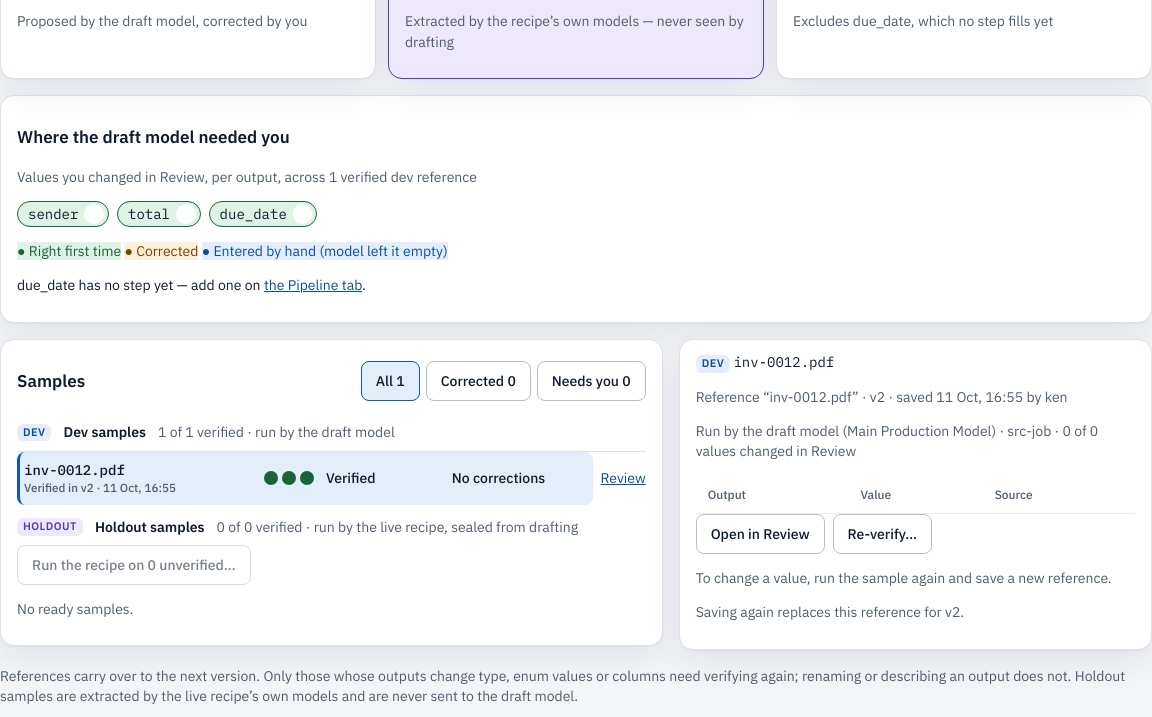
ReferencesTab › re-verifies one verified dev sample with the drafting model
(page scrolled)
Click the button "Re-verify…": point(882, 534) [833,514,932,554]
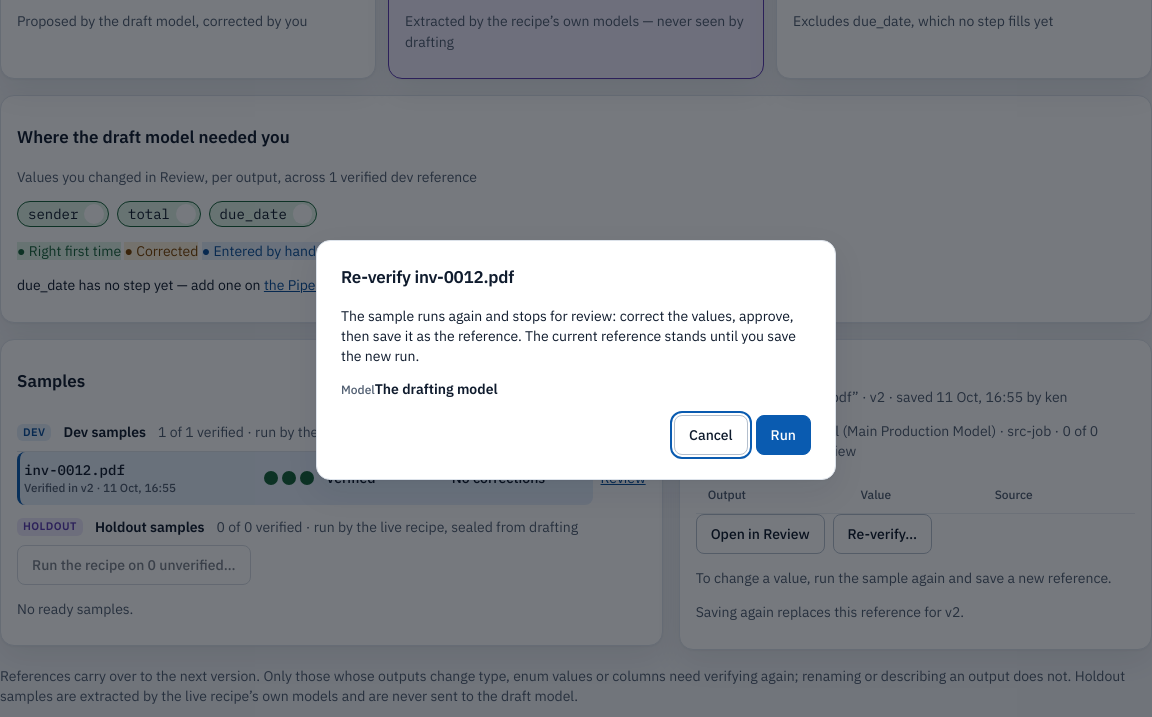
Result: the dialog "Re-verify inv-0012.pdf" shows "The drafting model" at [375,380,498,398]
Result: the dialog "Re-verify inv-0012.pdf" shows "The current reference stands until you save the new run." at [341,307,796,365]
Click the button "Run": point(783, 435) [756,415,811,455]
(page scrolled)
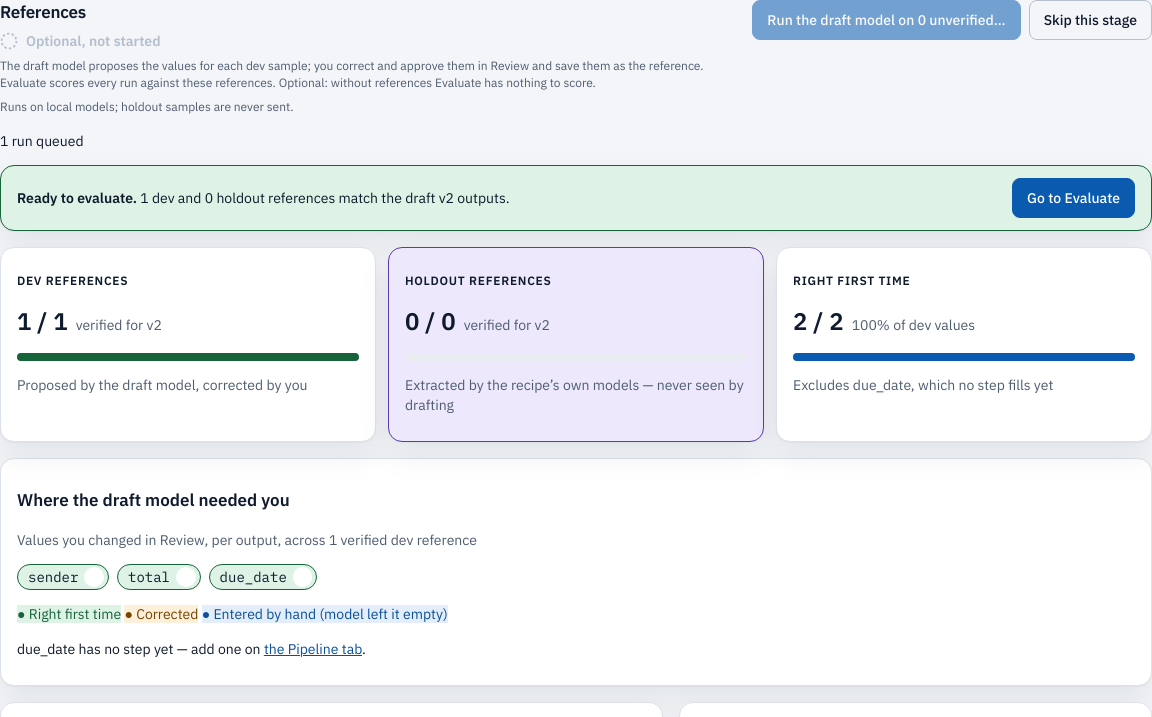
Result: the message reads "1 run queued" at [0,132,84,150]
